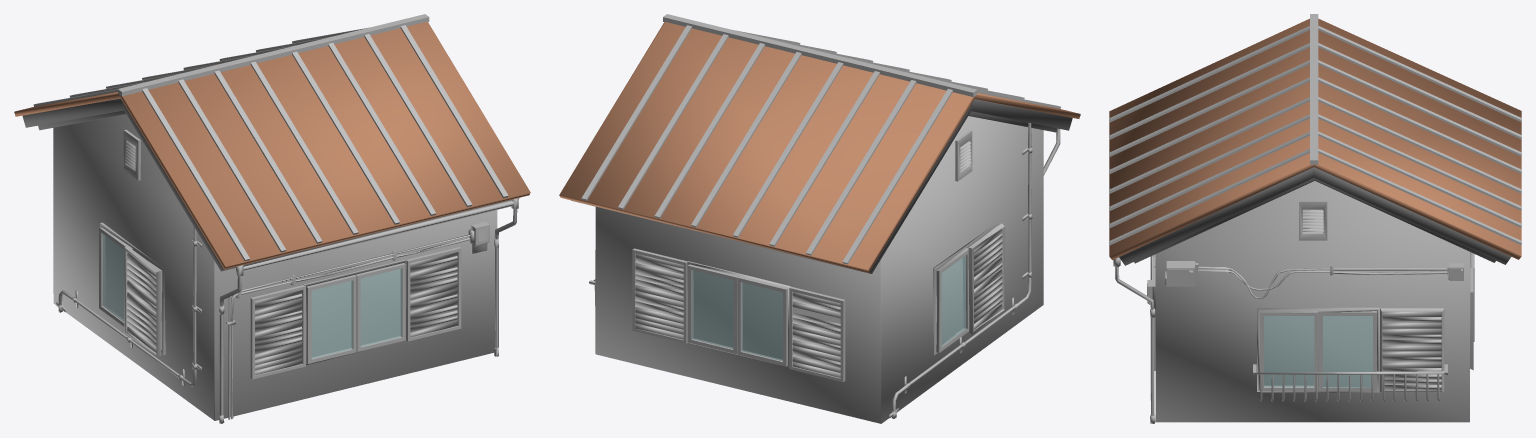
The model's file is house_residential_attachment_01.fbx.
The picture shows the model from 3 angles, left to right: view 1: azimuth 30°, elevation 25°; view 2: azimuth 150°, elevation 25°; view 3: azimuth 270°, elevation 25°; orthographic projection. The views are drawn at different scales.
Parts seen in each view (by area): view 1: Object32585.002; view 2: Object32585.002; view 3: Object32585.002.
Part boxes in pixels (left/top/right/bottom): Object32585.002: left=14, top=14, right=530, bottom=423; Object32585.002: left=559, top=14, right=1080, bottom=423; Object32585.002: left=1109, top=14, right=1521, bottom=423.
Size of the model in its own units: 646 by 543 by 755.
